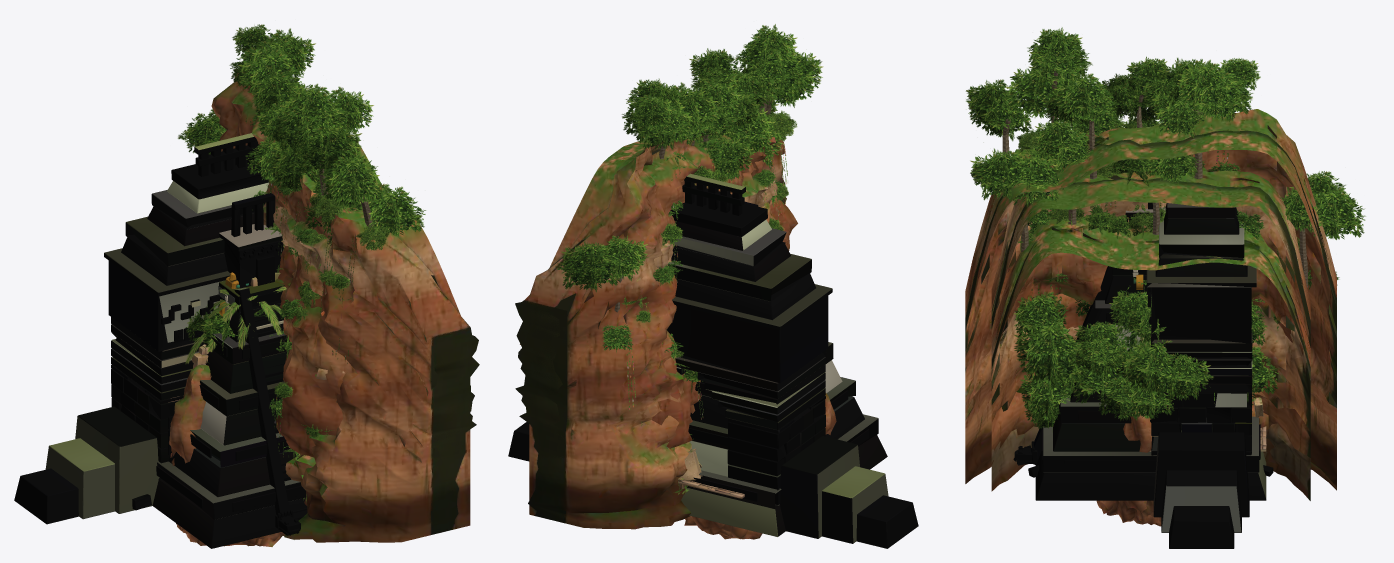
The model's file is kit.mobile.glb.
3 renders of one model, left to right at view 1: azimuth 30°, elevation 25°; view 2: azimuth 150°, elevation 25°; view 3: azimuth 270°, elevation 25°, orthographic. The views are drawn at different scales.
Visible parts, largest first — view 1: cliff_wall_2, face_gate_0, temple_0, cliff_wall_2_veg, cliff_wall_1, cliff_wall_1_veg, cliff_wall_0_veg, rock_big_0, cliff_wall_0, tree_big_1_crown, palm_2_crown; view 2: cliff_wall_2, face_gate_0, cliff_wall_2_veg, temple_0, cliff_wall_1_veg, cliff_wall_0_veg, cliff_wall_1, rock_big_0; view 3: face_gate_0, cliff_wall_2, cliff_wall_0, cliff_wall_1, temple_0, cliff_wall_2_veg, cliff_wall_0_veg, cliff_wall_1_veg, jungle_bank_2, canopy_1, jungle_bank_1, canopy_0 (+6 smaller).
Part boxes in pixels (x1,y1,x2,y2): cliff_wall_2: (211,73,479,542); face_gate_0: (14,133,268,524); temple_0: (132,193,307,548); cliff_wall_2_veg: (178,24,389,536); cliff_wall_1: (263,182,354,505); cliff_wall_1_veg: (234,28,373,451); cliff_wall_0_veg: (245,137,425,436); rock_big_0: (169,365,282,546); cliff_wall_0: (283,245,344,481); tree_big_1_crown: (185,305,291,358); palm_2_crown: (203,286,291,349); cliff_wall_2: (515,126,797,529); face_gate_0: (508,173,918,548); cliff_wall_2_veg: (555,24,823,410); temple_0: (681,201,887,536); cliff_wall_1_veg: (622,48,783,419); cliff_wall_0_veg: (621,101,782,442); cliff_wall_1: (652,159,784,447); rock_big_0: (691,393,836,530); face_gate_0: (1146,112,1256,548); cliff_wall_2: (965,109,1336,490); cliff_wall_0: (991,215,1310,500); cliff_wall_1: (991,167,1310,471); temple_0: (1013,202,1273,500); cliff_wall_2_veg: (966,27,1365,289); cliff_wall_0_veg: (970,113,1299,374); cliff_wall_1_veg: (1044,57,1253,214); jungle_bank_2: (1013,291,1279,432); canopy_1: (1097,302,1186,421); jungle_bank_1: (1019,321,1254,428); canopy_0: (1123,324,1213,419).
Size of the model in its own units: 31.79 by 36.83 by 29.97.
Materials: 14 (14 with a texture image).
